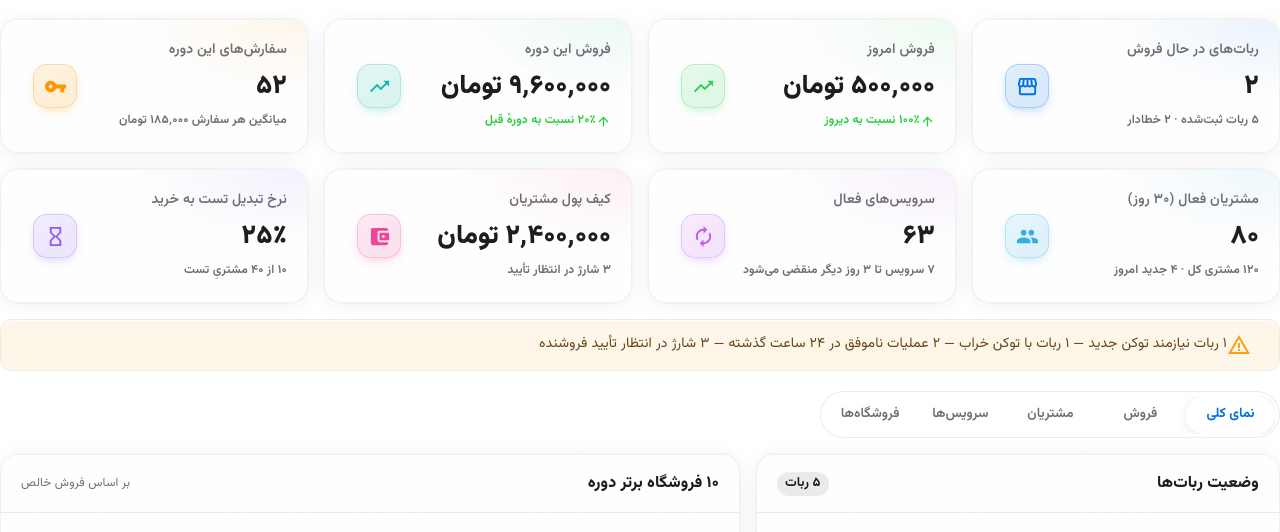
Test: storefront analytics page › switches to the sales tab and shows the window comparison and best sellers
Click the tab "فروش" at (1140, 415), box [1095,396,1185,434]
(page scrolled)
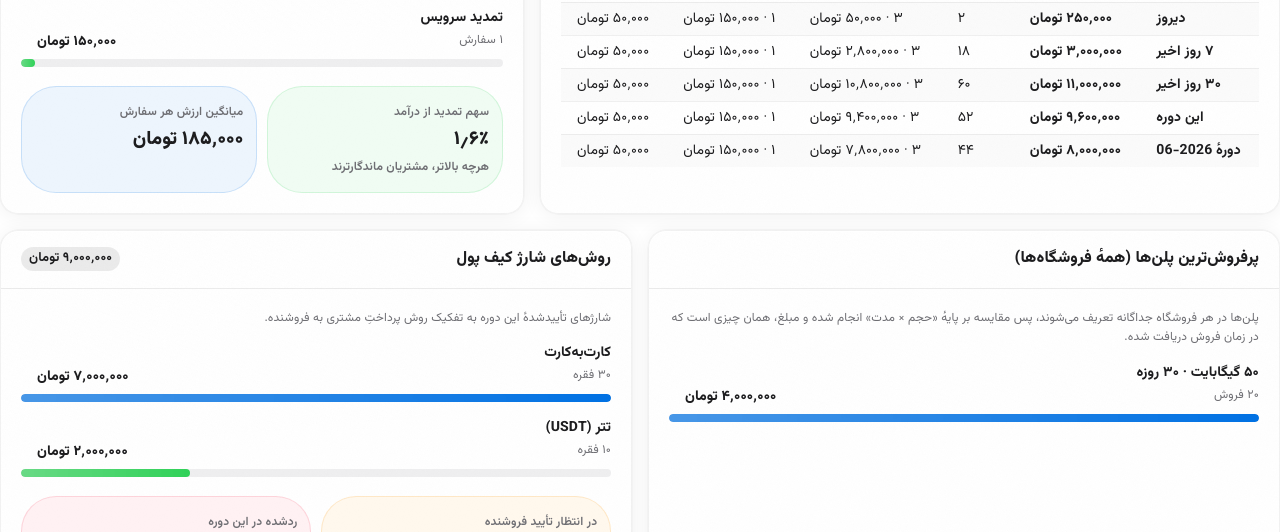
Expected: the text "۵۰ گیگابایت · ۳۰ روزه" is shown, [1136,363,1259,383]
Expected: the text "کارت‌به‌کارت" is shown, [544,343,611,363]
